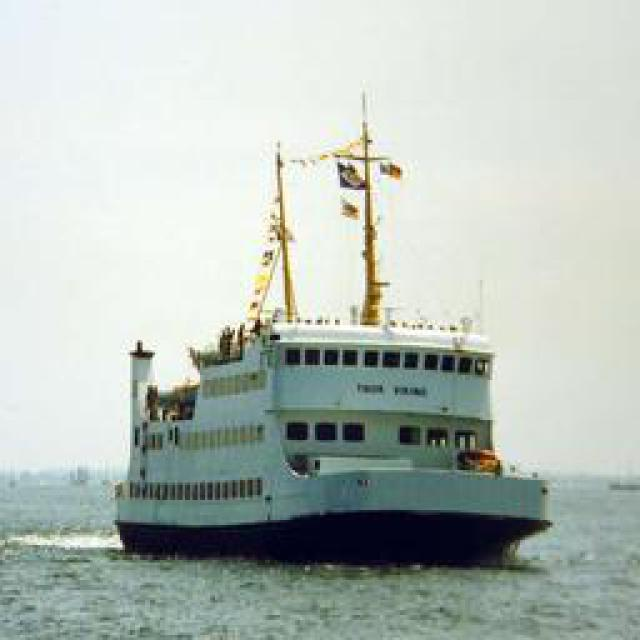Ship: (117, 85, 555, 558)
